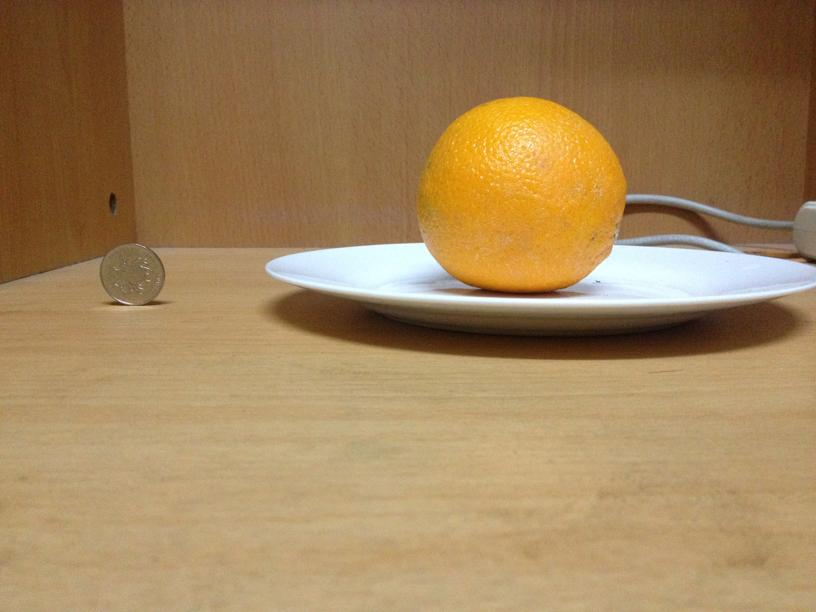coin: (99, 240, 167, 306)
orange: (416, 96, 624, 291)
